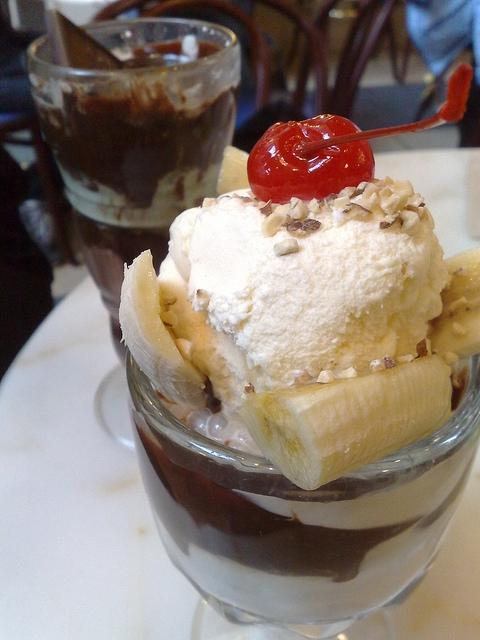banana: (238, 352, 454, 489), (119, 251, 210, 411), (428, 246, 480, 364)
cherry: (247, 63, 473, 204)
